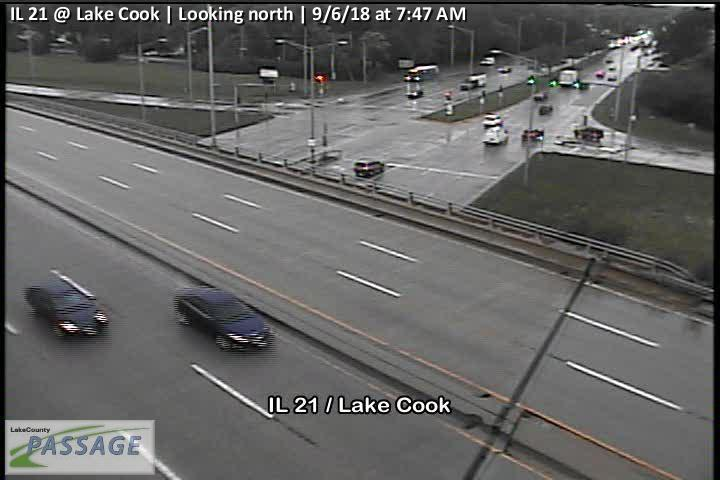SUV: (353, 157, 385, 175), (482, 126, 510, 146), (574, 126, 604, 140), (521, 127, 545, 141), (482, 114, 503, 127)
Sedan: (172, 286, 274, 352), (25, 279, 109, 339)
